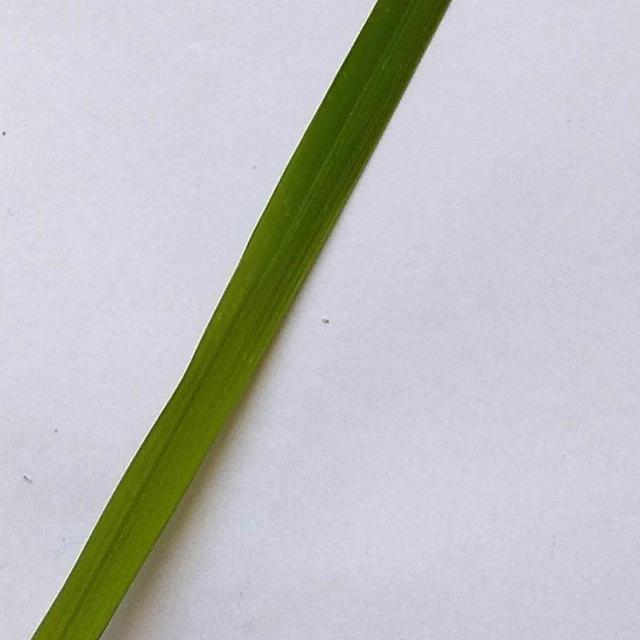healthy: (29, 0, 540, 640)
